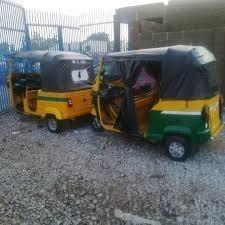keke: (91, 49, 224, 225), (90, 44, 225, 166), (5, 48, 98, 134)
